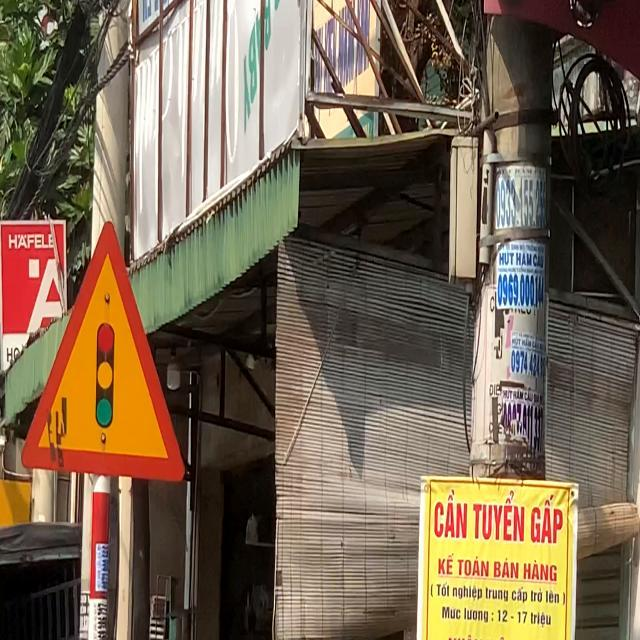W-209: (21, 219, 185, 481)
